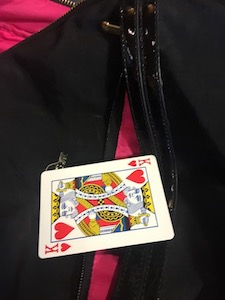KingOfHearts: (36, 154, 176, 262)
